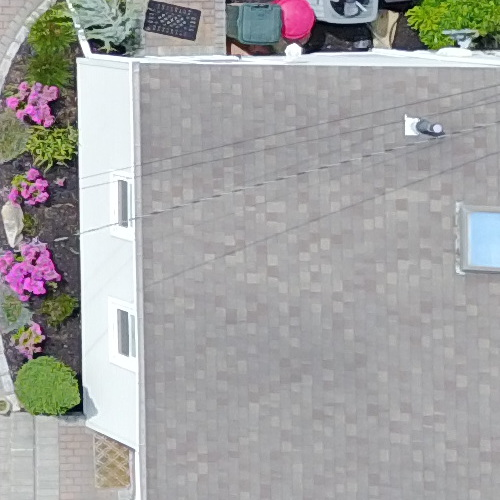air conditioner: (309, 1, 384, 30)
trash bin: (233, 3, 288, 51), (272, 1, 325, 48)
